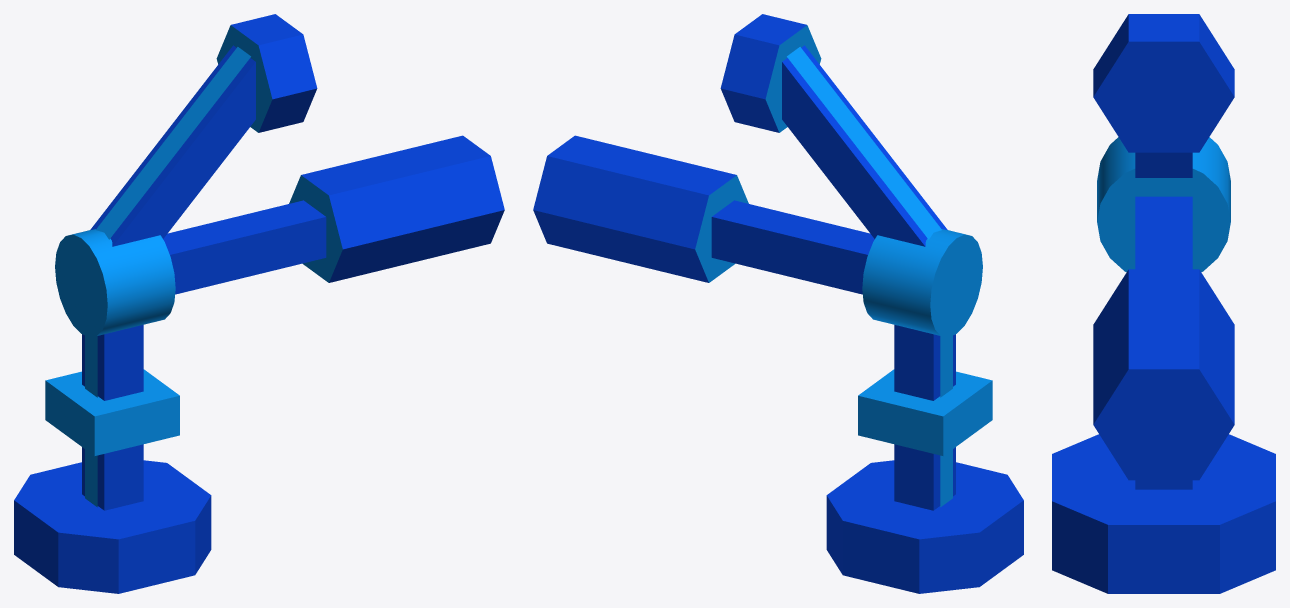
Rendered from Building_038_d.fbx.
3 renders of one model, left to right at view 1: azimuth 30°, elevation 25°; view 2: azimuth 150°, elevation 25°; view 3: azimuth 270°, elevation 25°, orthographic. The views are drawn at different scales.
Parts seen in each view (by area): view 1: Building_038_d; view 2: Building_038_d; view 3: Building_038_d.
Boxes of the visible parts, x1=… form: Building_038_d: x1=14, y1=14, x2=504, y2=593; Building_038_d: x1=533, y1=14, x2=1023, y2=593; Building_038_d: x1=1052, y1=14, x2=1275, y2=593.
Size of the model in its own units: 9.11 by 9.58 by 3.16.
